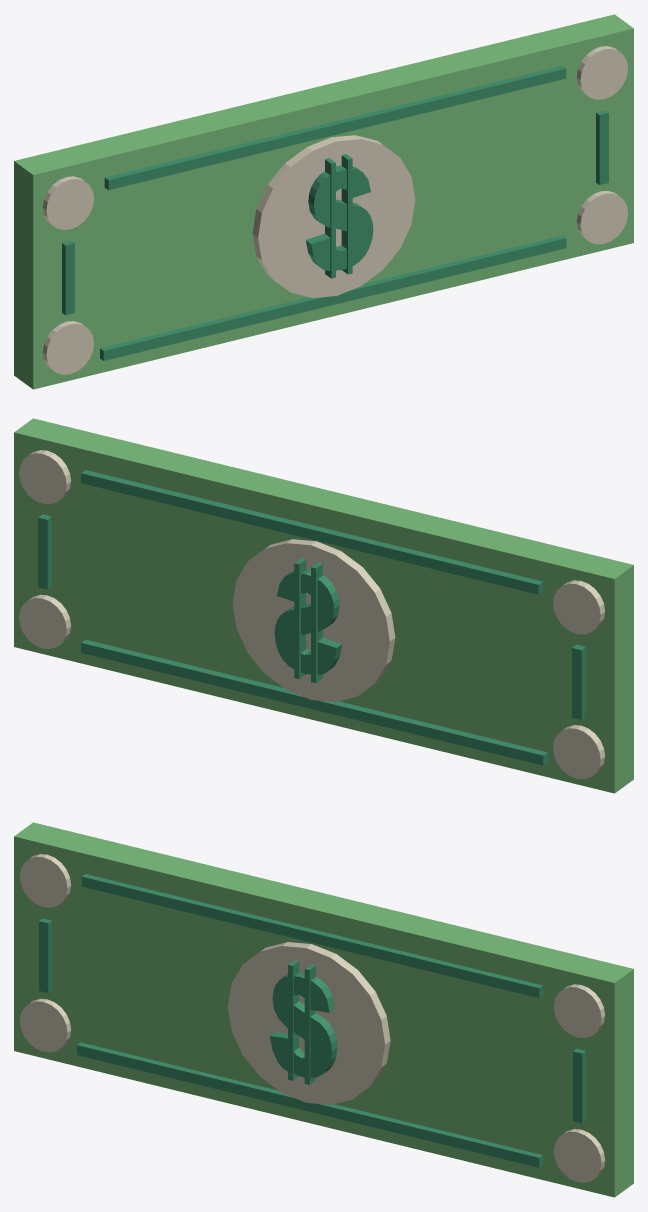
File: asset.glb
The picture shows the model from 3 angles, top to bottom: view 1: azimuth 30°, elevation 25°; view 2: azimuth 150°, elevation 25°; view 3: azimuth 330°, elevation 25°; orthographic projection.
Parts seen in each view (by area): view 1: Mesh_Mesh_head_geo.001_lambert2SG.001; view 2: Mesh_Mesh_head_geo.001_lambert2SG.001; view 3: Mesh_Mesh_head_geo.001_lambert2SG.001.
Part boxes in pixels (x1=…): Mesh_Mesh_head_geo.001_lambert2SG.001: x1=14, y1=14, x2=633, y2=389; Mesh_Mesh_head_geo.001_lambert2SG.001: x1=14, y1=418, x2=633, y2=793; Mesh_Mesh_head_geo.001_lambert2SG.001: x1=14, y1=822, x2=633, y2=1197.
Size of the model in its own units: 126 by 43 by 16.
